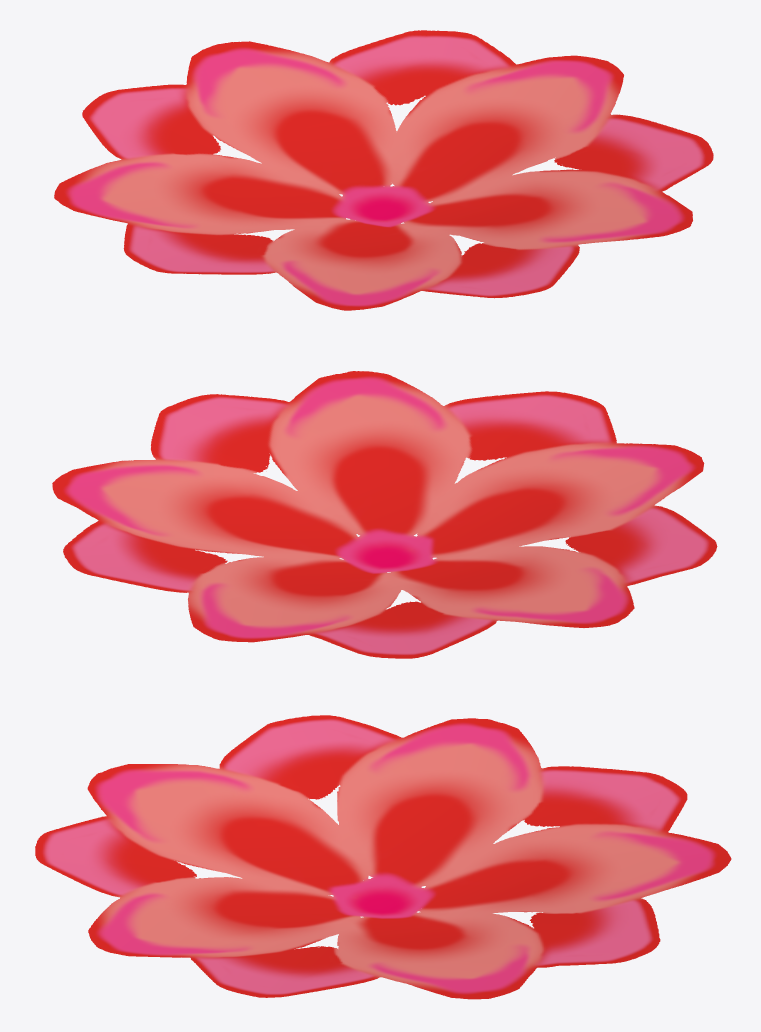
The model's file is Item_Flower_Fire.fbx.
3 renders of one model, top to bottom at view 1: azimuth 30°, elevation 25°; view 2: azimuth 150°, elevation 25°; view 3: azimuth 270°, elevation 25°, orthographic. The views are drawn at different scales.
Parts seen in each view (by area): view 1: Item_Flower_Fire; view 2: Item_Flower_Fire; view 3: Item_Flower_Fire.
Boxes of the visible parts, <box> form: Item_Flower_Fire: <box>54,30,713,310</box>; Item_Flower_Fire: <box>52,371,717,658</box>; Item_Flower_Fire: <box>35,715,731,999</box>.
Bounding box in the file's own units: 5.96 × 0.4462 × 5.87.
Materials: 1 (1 with a texture image).
